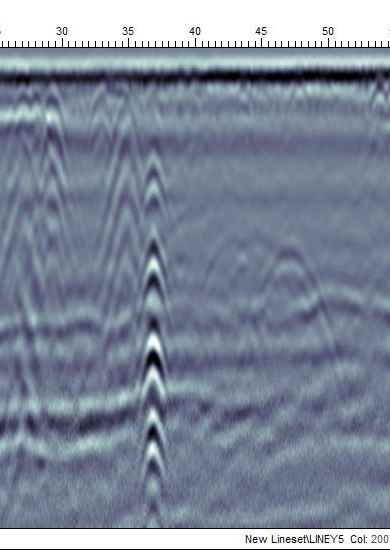hyperbola: (245, 238, 338, 361)
